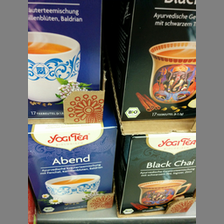tea: (111, 1, 195, 119), (28, 1, 102, 120), (28, 121, 118, 214), (116, 131, 195, 215)
